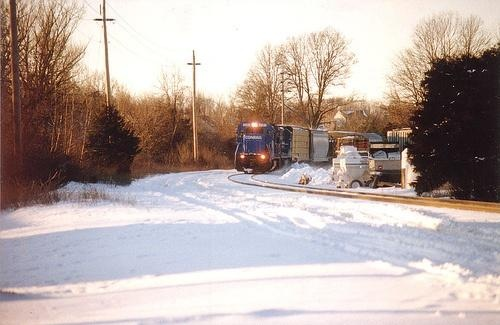train: (234, 123, 383, 175)
